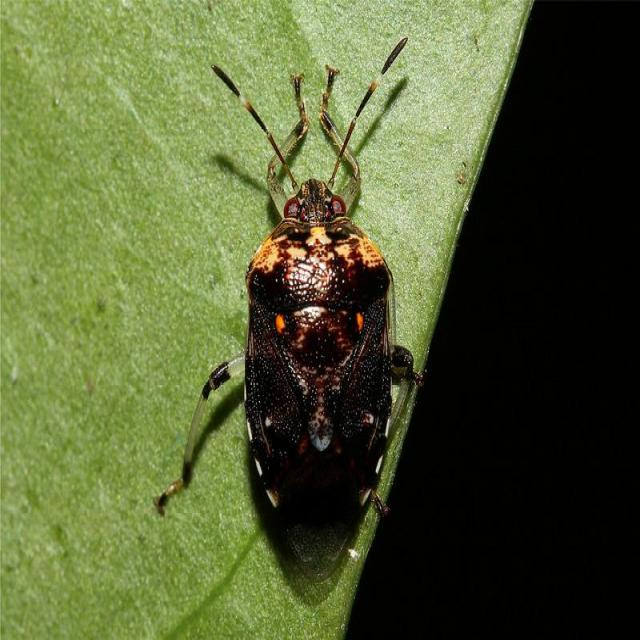Miridae-Adult-: (175, 38, 432, 594)
